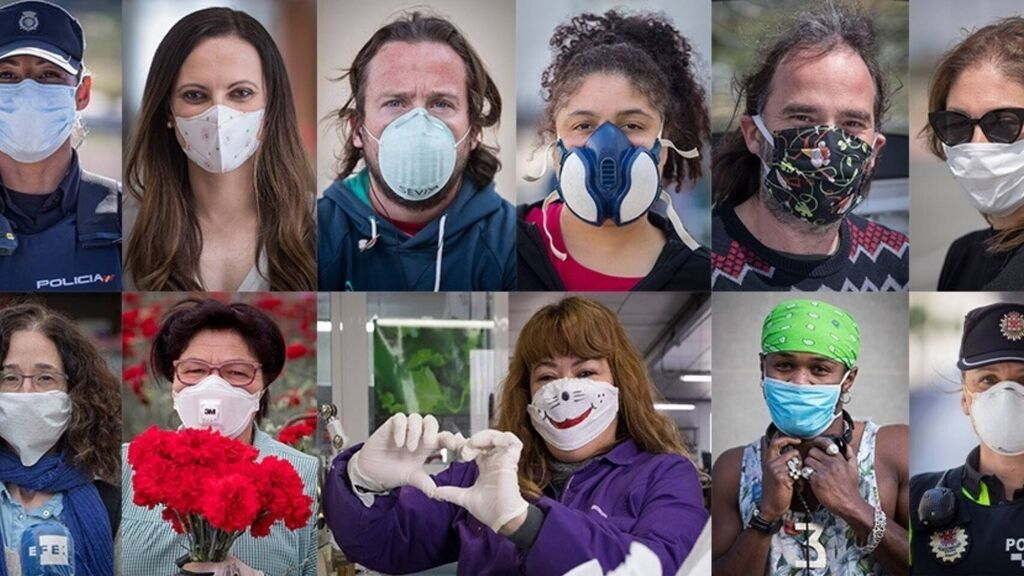with_mask: (529, 30, 701, 236), (334, 17, 501, 219), (747, 40, 901, 237), (916, 31, 1024, 230), (145, 304, 291, 449), (149, 24, 285, 175), (508, 303, 630, 467), (1, 6, 104, 194), (746, 304, 874, 441), (2, 316, 105, 472), (953, 304, 1024, 463)
